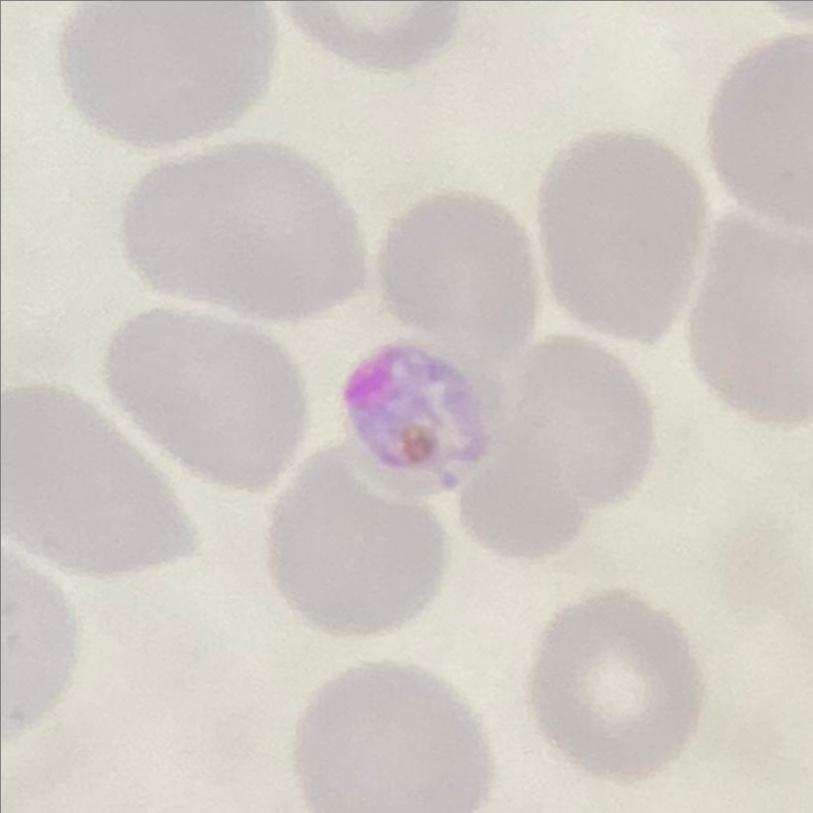Infected: (347, 341, 487, 489)
Uninfected: (457, 334, 653, 562), (123, 144, 364, 317), (0, 387, 200, 576), (107, 306, 307, 486), (270, 441, 448, 640), (542, 137, 710, 347), (528, 589, 707, 783), (62, 1, 280, 154), (293, 661, 494, 813), (380, 189, 541, 365), (687, 214, 813, 432)
